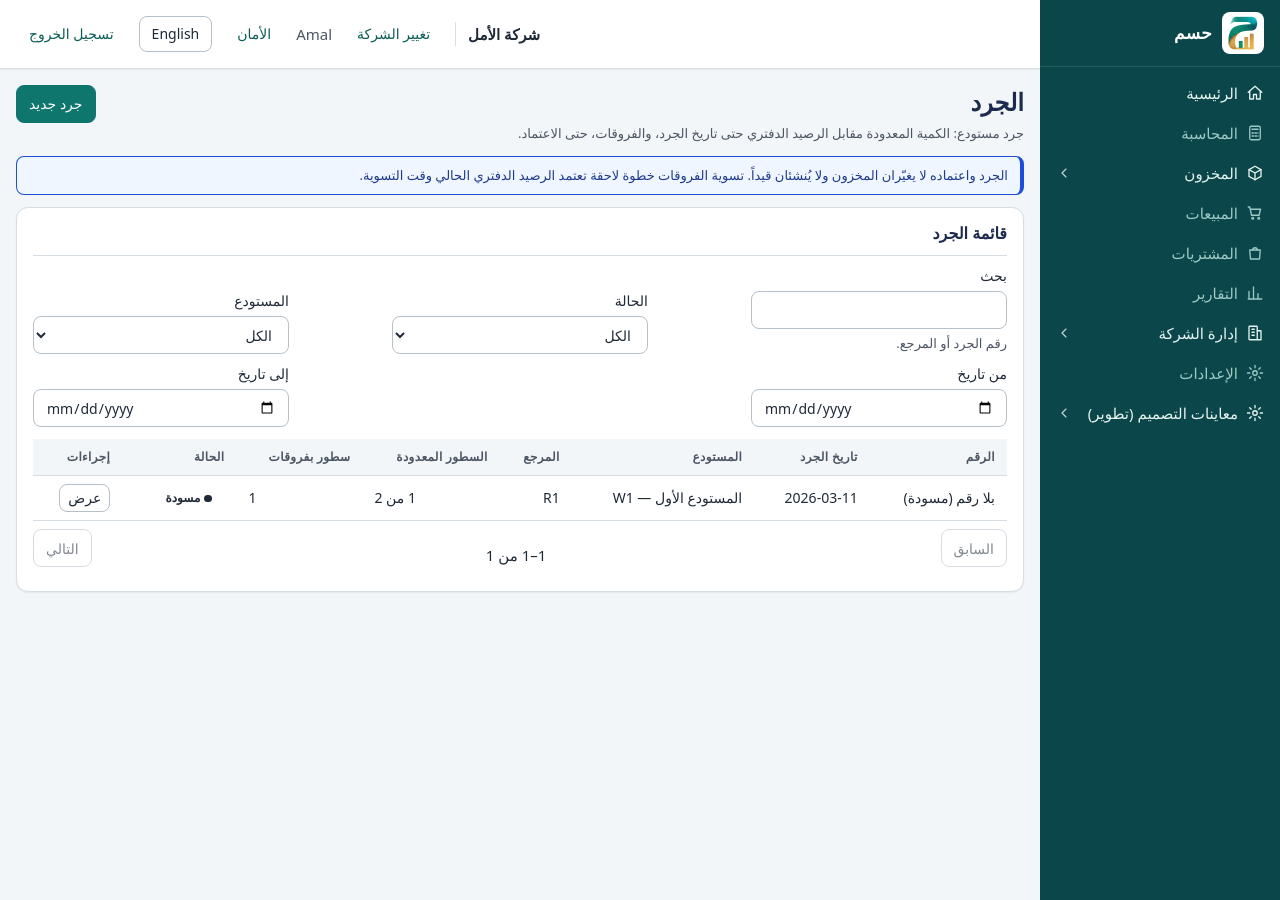
Test: stocktake › generates the item list with the revision and shows a server field error on the lines tab
The width and height of the screenshot is (1280, 900).
Expected: the element with test id "company-name" is shown, [455,22,540,46]
Click the button "عرض" at (85, 498), box [59,484,110,512]
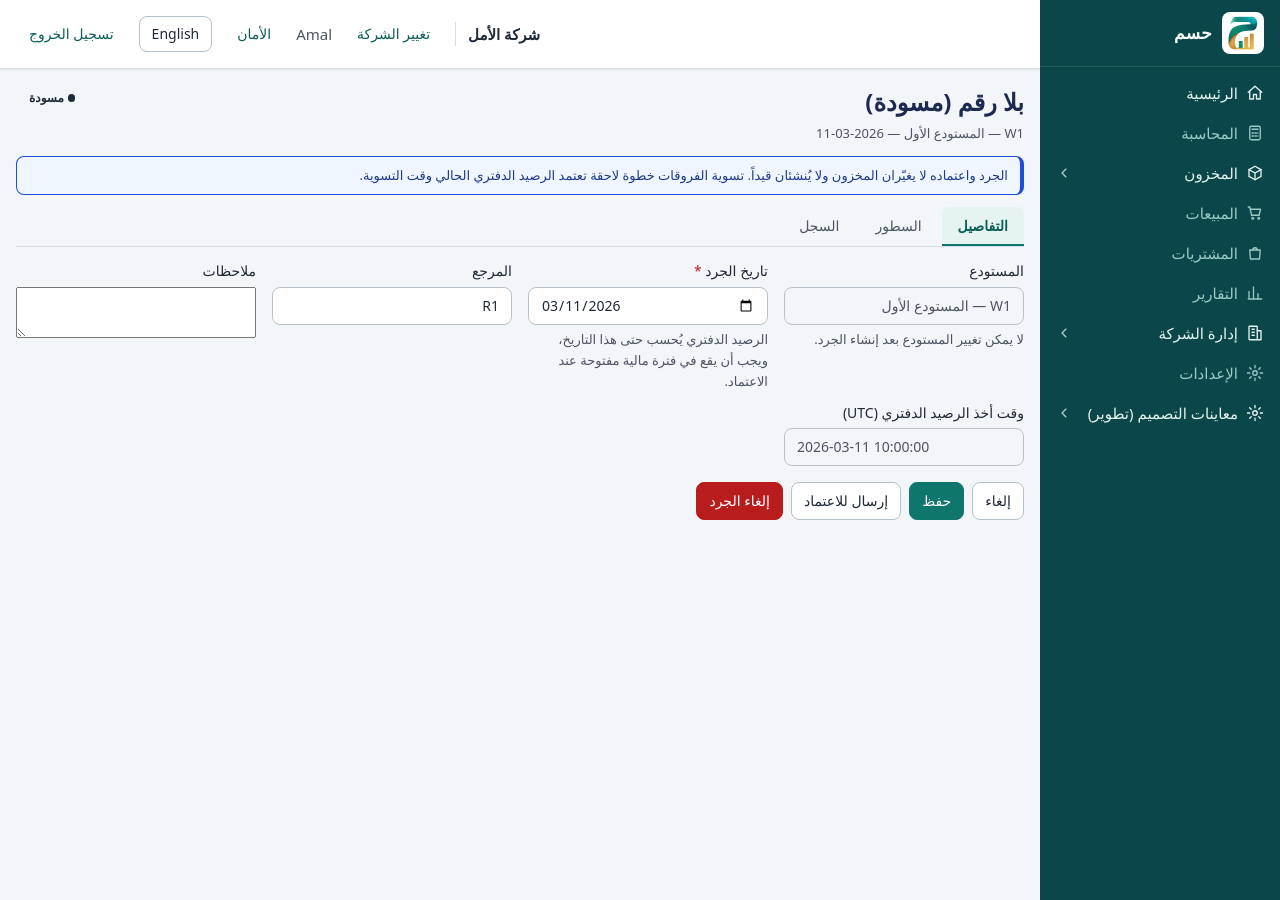
Now the element with test id "stk-editor" is shown, box [16,85,1024,520]
Click the tab "السطور" at (898, 228), box [859,208,938,248]
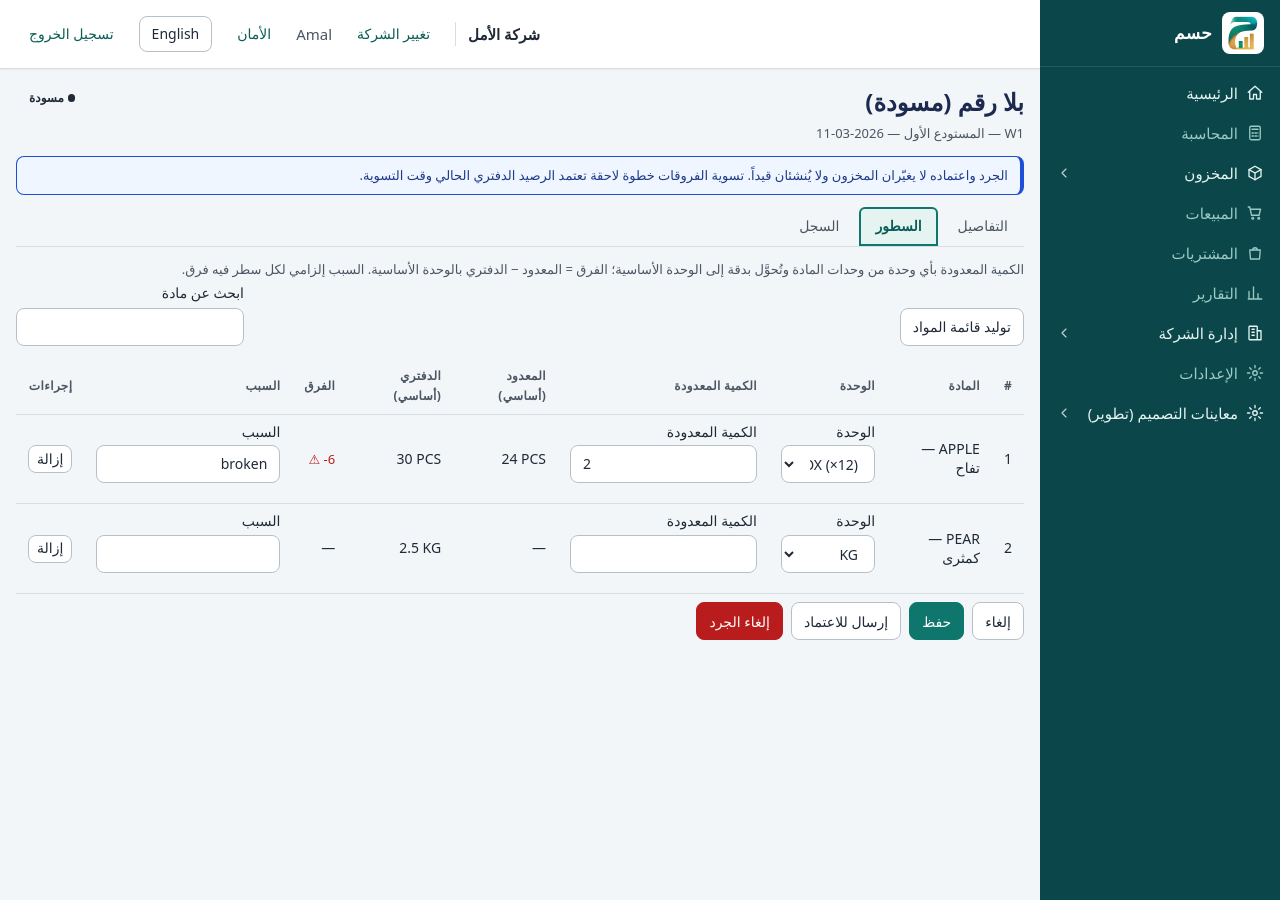
Click the button with test id "generate" at (962, 327), box [900,308,1024,346]
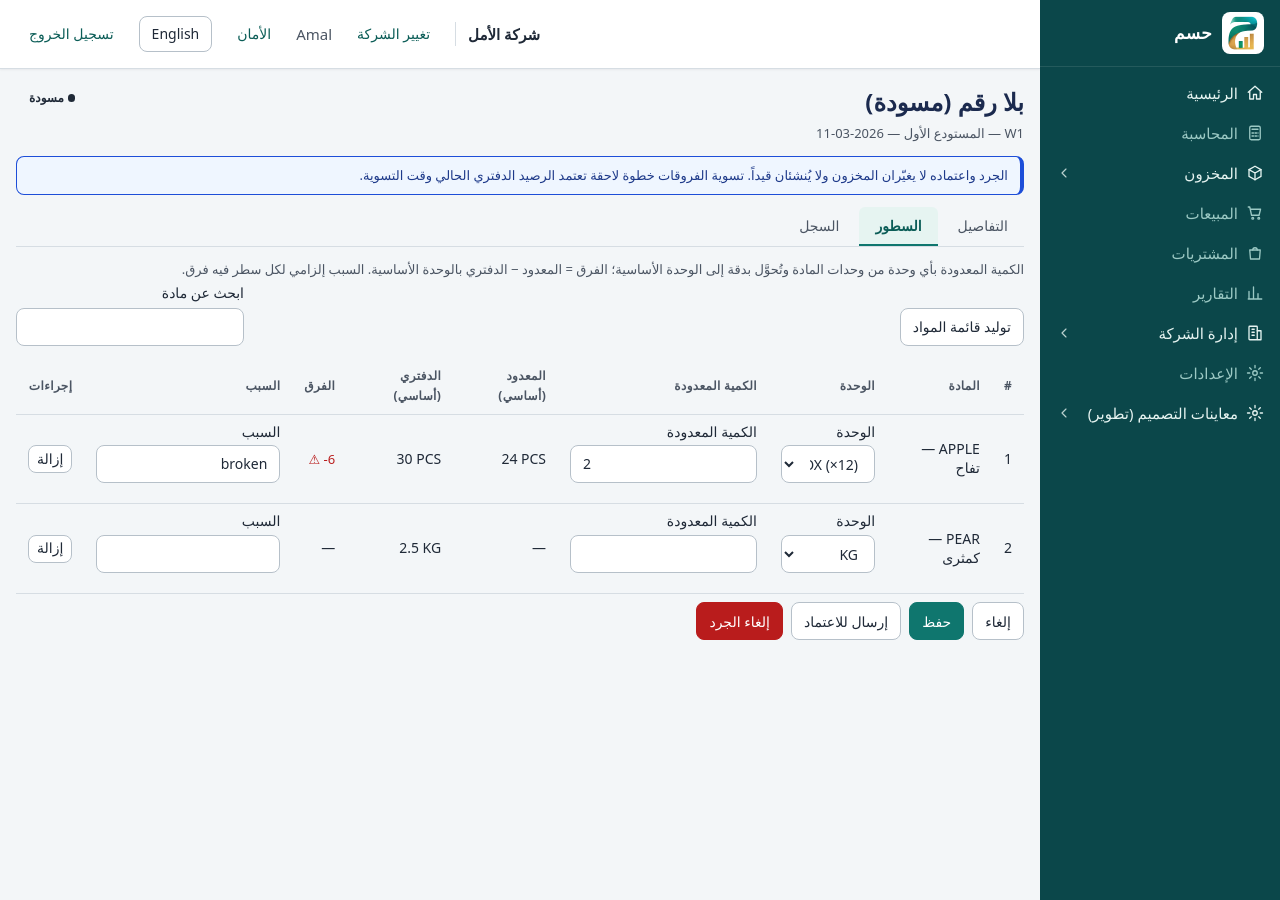
Click the button "إرسال للاعتماد" at (846, 621), box [791,602,901,640]
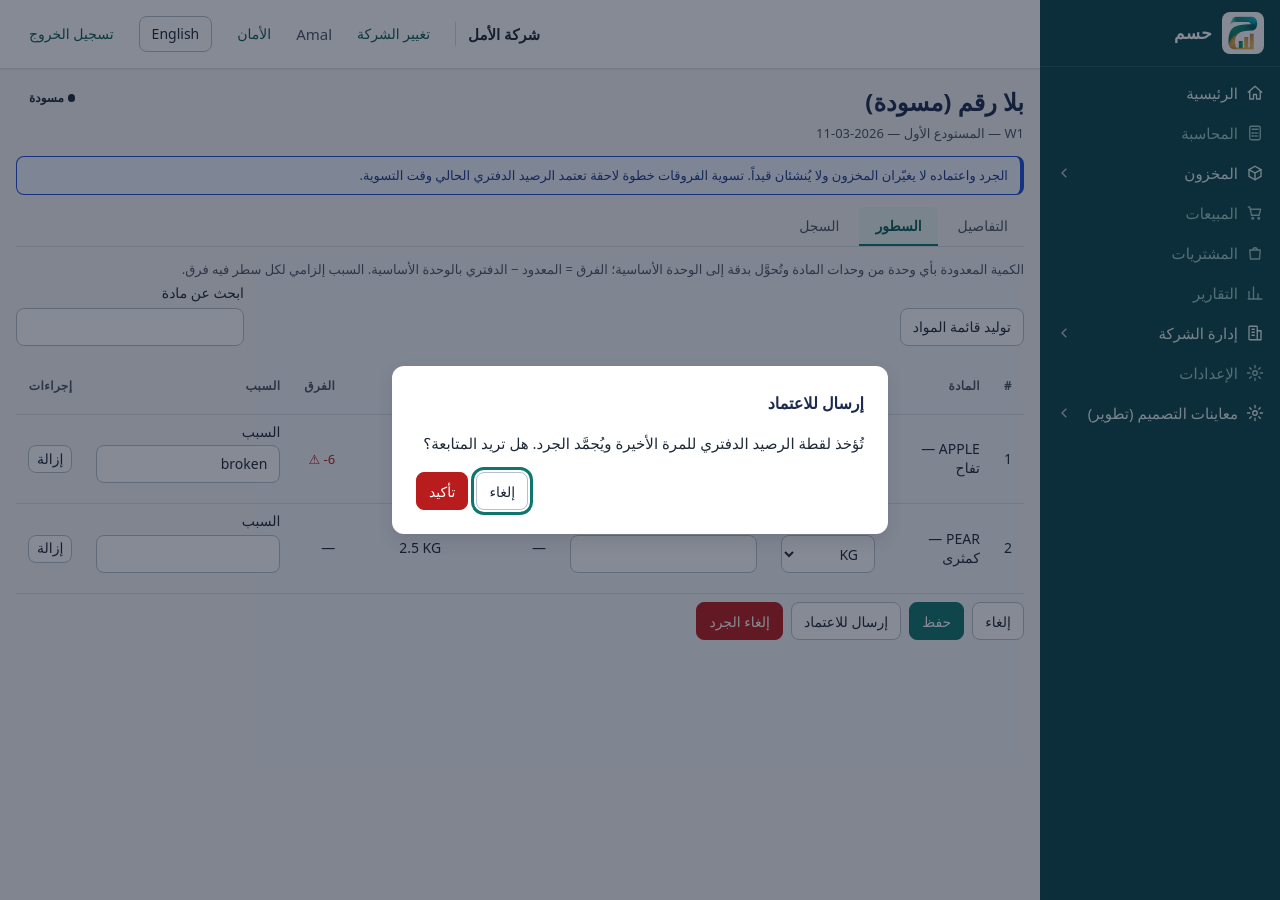
Click the button "تأكيد" at (442, 491), box [416,472,468,510]
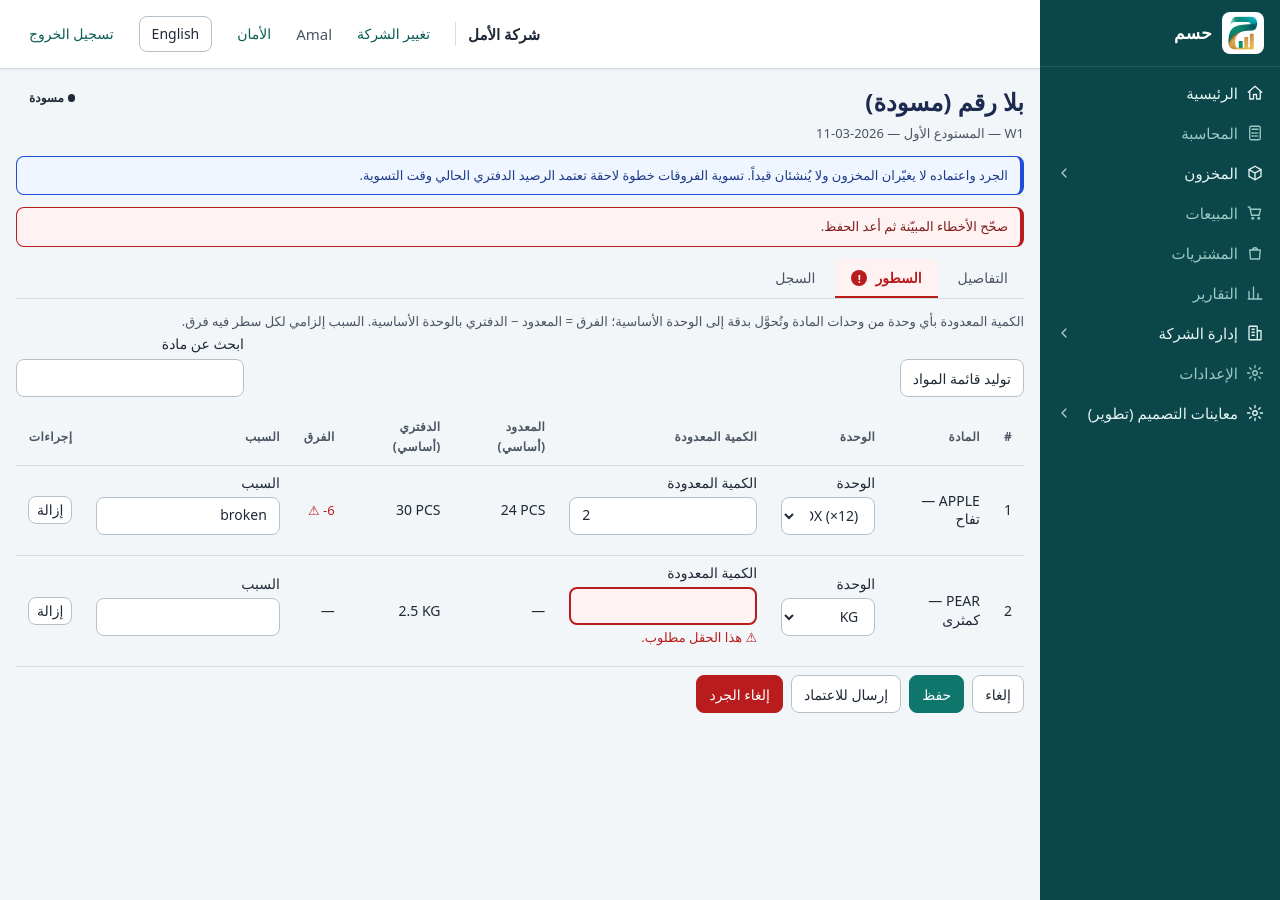
Now the message "صحّح الأخطاء المبيّنة ثم أعد الحفظ." is shown, box [16,208,1024,247]
